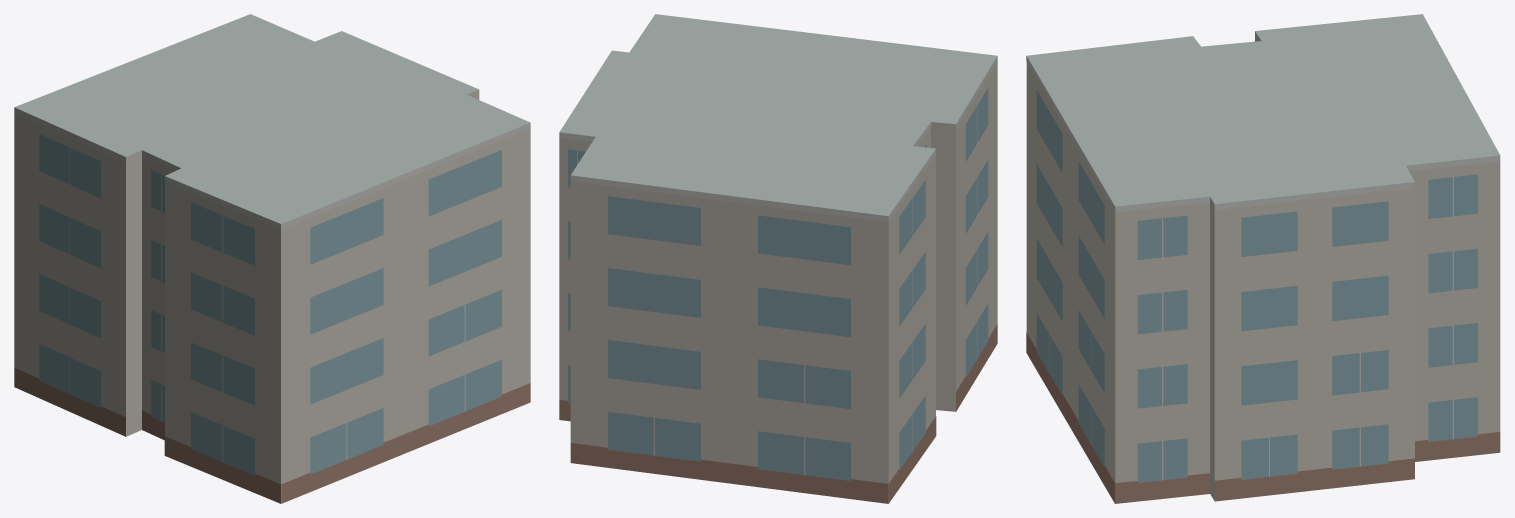
The model's file is survey-upis-32820323.glb.
3 renders of one model, left to right at view 1: azimuth 30°, elevation 25°; view 2: azimuth 150°, elevation 25°; view 3: azimuth 270°, elevation 25°, orthographic. The views are drawn at different scales.
Parts seen in each view (by area): view 1: survey-upis-32820323.tmp; view 2: survey-upis-32820323.tmp; view 3: survey-upis-32820323.tmp.
Part boxes in pixels (x1,y1,x2,y2): survey-upis-32820323.tmp: (14,14,530,503); survey-upis-32820323.tmp: (559,14,997,503); survey-upis-32820323.tmp: (1026,14,1500,503).
Size of the model in its own units: 16.69 by 12 by 17.35.
